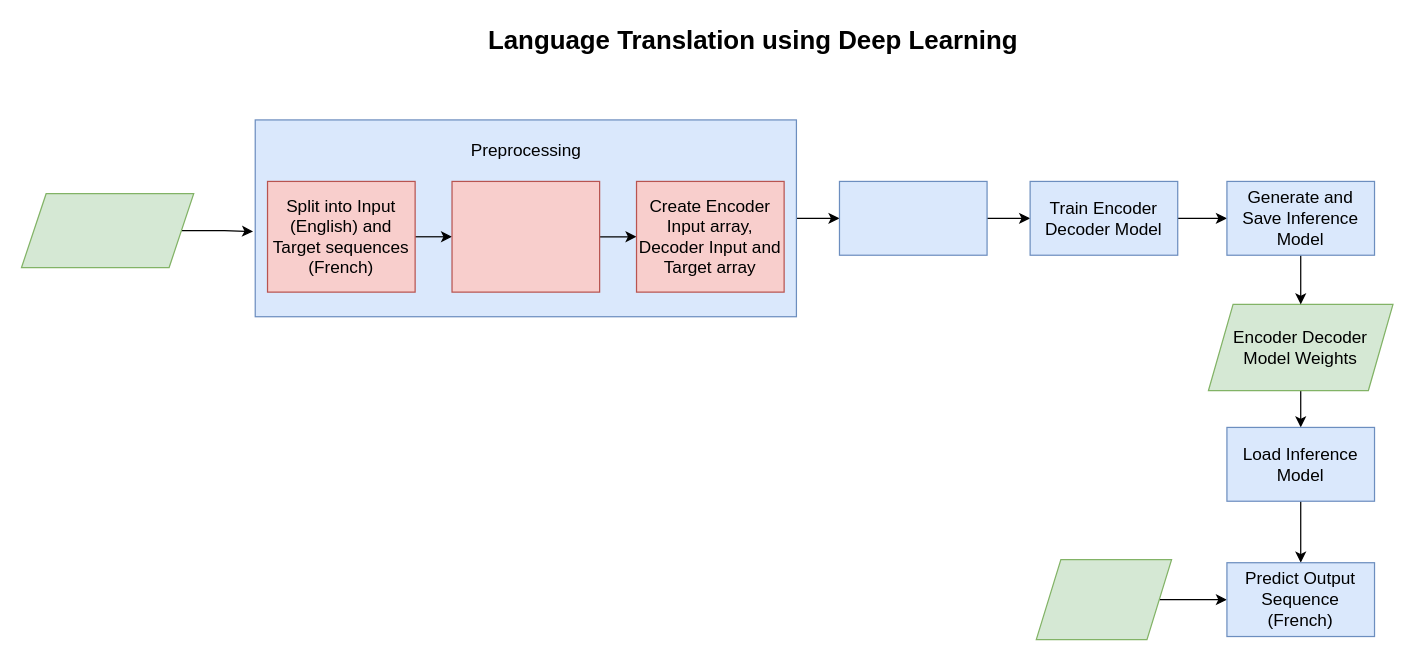
Some shapes in this 1415 by 661 pixel diagram are drawn without their labels. The shapes that lost their labels are listed below. From the top down, each one's box as (x1, y1, x2, y2) in pixels, then its label:
(20, 192, 194, 268): English-French Dataset
(451, 180, 600, 292): Create dictionary of indexed unique characters for input and target sequences
(838, 180, 987, 255): Build Encoder Decoder Model
(1035, 558, 1172, 640): Test Input Sequence (English)
